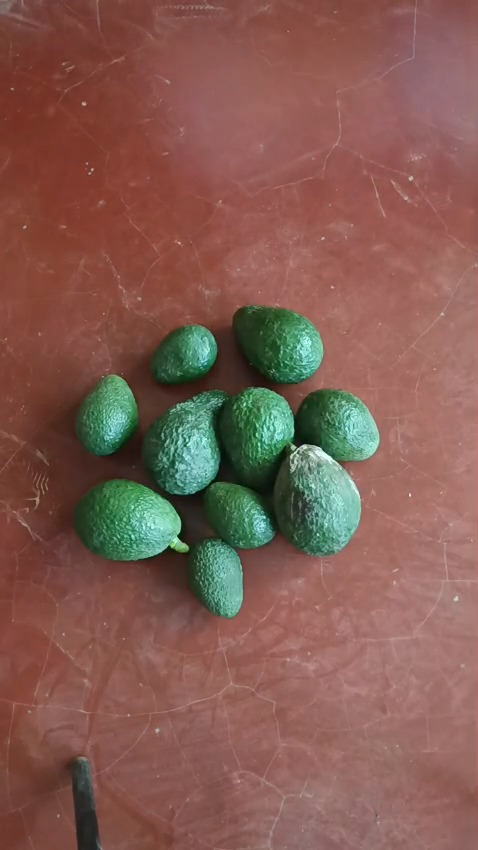Primera: (271, 444, 360, 554), (72, 477, 181, 560), (142, 391, 228, 494), (217, 387, 294, 489), (232, 306, 321, 383)
Segunda: (294, 388, 380, 463), (74, 373, 138, 455)
Tercera: (202, 481, 276, 549), (186, 537, 243, 616), (149, 325, 217, 385)
